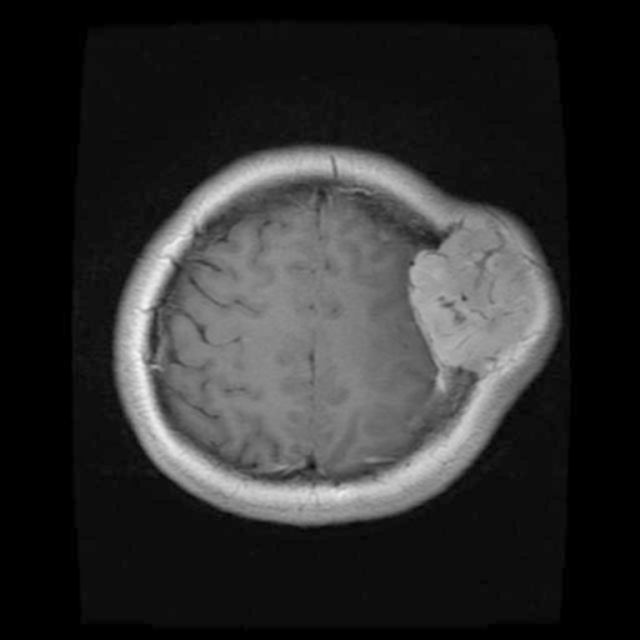meningioma tumor: (402, 202, 558, 414)
